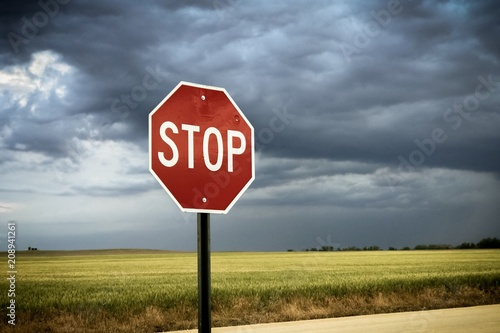StopSign: (147, 80, 254, 214)
